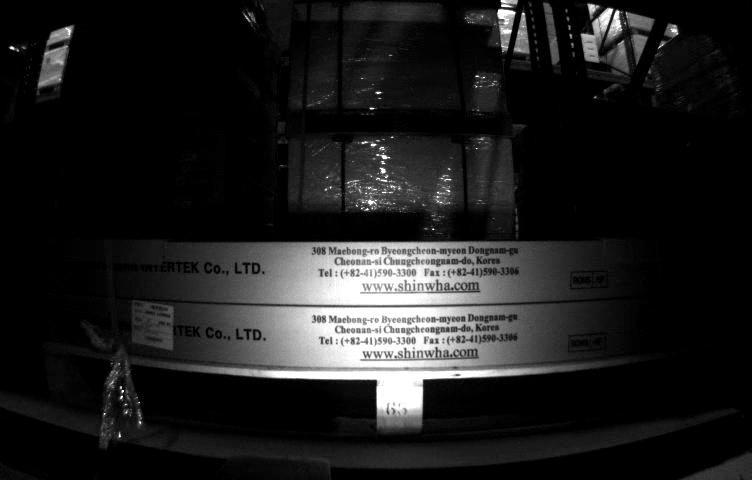True Barcode: (128, 302, 176, 352)
